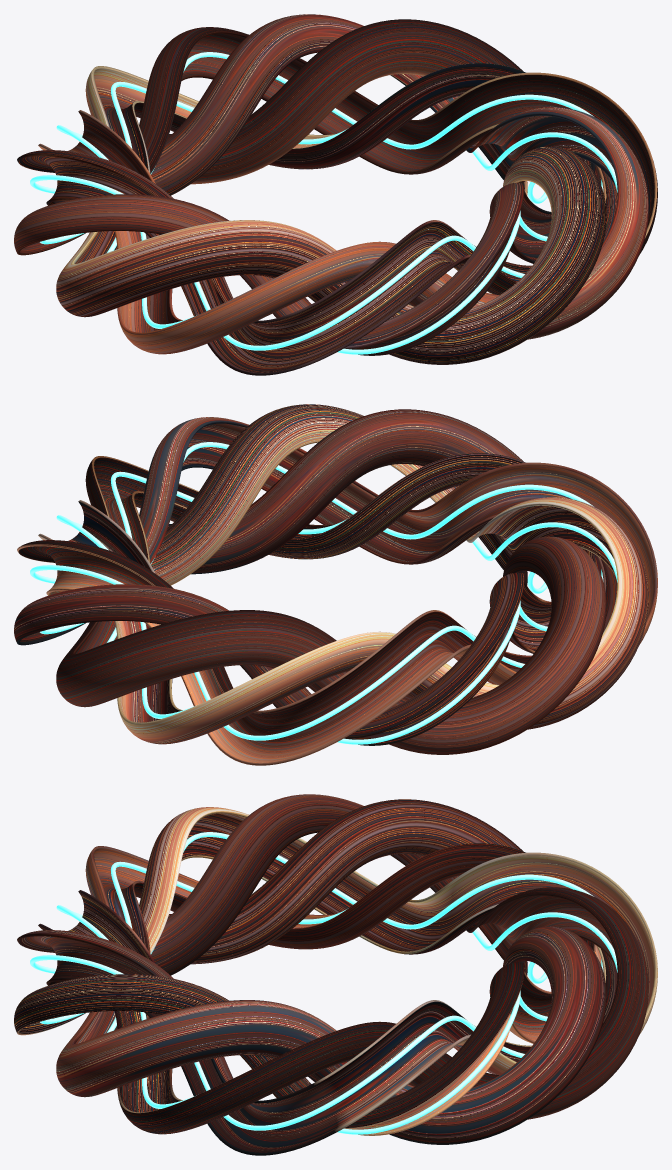
Rendered from low_poly_torus_knot_sculpture.glb.
The picture shows the model from 3 angles, top to bottom: view 1: azimuth 30°, elevation 25°; view 2: azimuth 150°, elevation 25°; view 3: azimuth 270°, elevation 25°; orthographic projection.
Parts seen in each view (by area): view 1: Spiral, Spiral.001; view 2: Spiral, Spiral.001; view 3: Spiral, Spiral.001.
Part boxes in pixels (x1,y1,x2,y2): Spiral: [14, 14, 657, 375]; Spiral.001: [30, 52, 617, 354]; Spiral: [14, 404, 657, 765]; Spiral.001: [30, 442, 617, 744]; Spiral: [14, 794, 657, 1155]; Spiral.001: [30, 832, 617, 1134].
Size of the model in its own units: 2.55 by 0.62 by 2.57.
2 materials, 1 textured.
